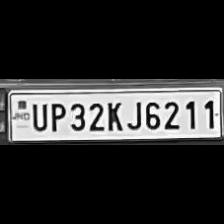1: (180, 97, 198, 129), (200, 97, 218, 129)
2: (162, 97, 180, 130), (86, 99, 104, 131)
3: (66, 99, 86, 131)
6: (141, 98, 159, 130)
J: (124, 98, 142, 130)
K: (104, 98, 124, 132)
P: (46, 100, 66, 132)
U: (28, 100, 46, 132)
